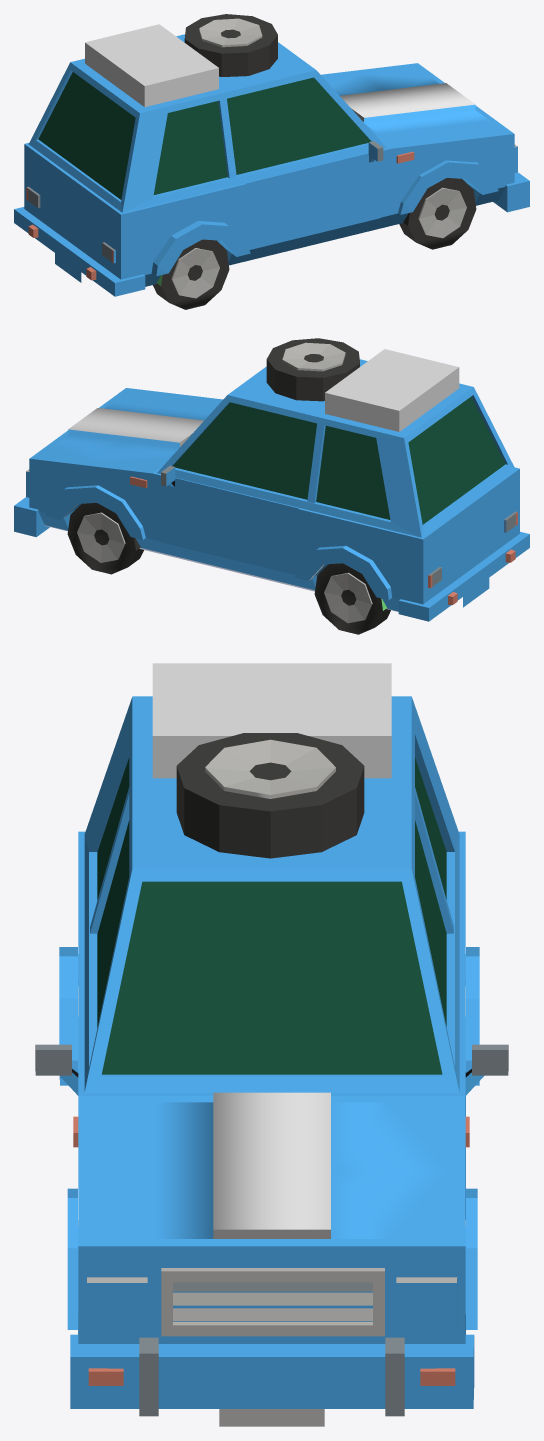
File: transport_07.fbx
3 renders of one model, top to bottom at view 1: azimuth 30°, elevation 25°; view 2: azimuth 150°, elevation 25°; view 3: azimuth 270°, elevation 25°, orthographic. The views are drawn at different scales.
Visible parts, largest first — view 1: transport_07; view 2: transport_07; view 3: transport_07.
Part boxes in pixels (x1,y1,x2,y2): transport_07: (14, 14, 529, 309); transport_07: (14, 338, 529, 634); transport_07: (35, 663, 508, 1426).
Bounding box in the file's own units: 204 × 98.74 × 102.
